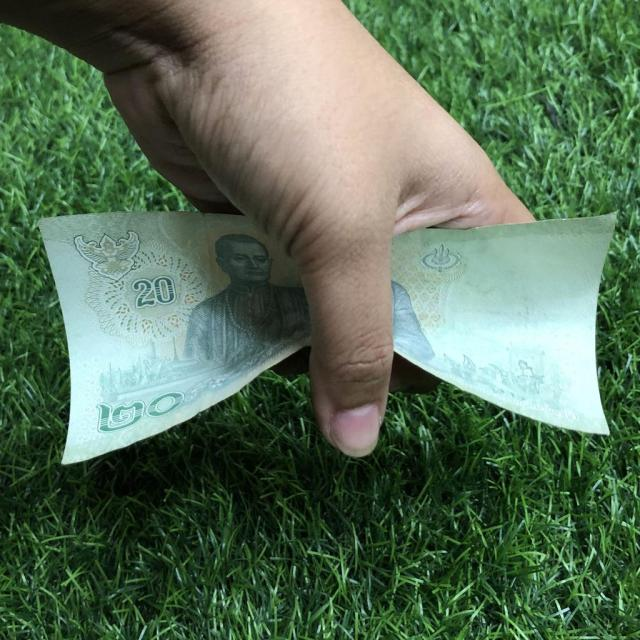THAI20: (38, 211, 313, 468), (390, 214, 618, 438)
